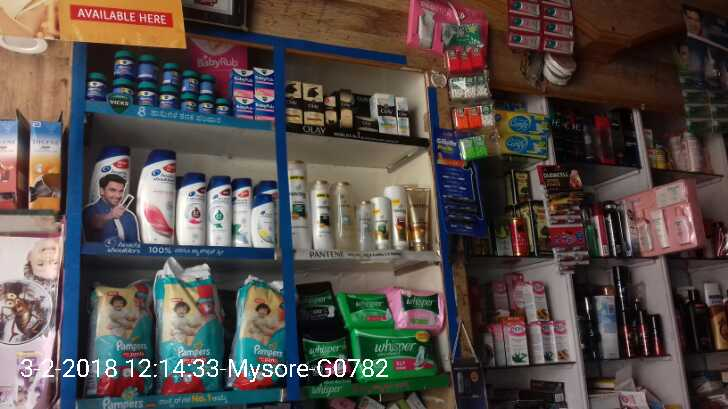beauty: (94, 141, 133, 248), (133, 147, 175, 245), (175, 171, 205, 247), (204, 174, 233, 250), (288, 161, 311, 252), (307, 176, 331, 254), (248, 192, 276, 250), (407, 184, 428, 252), (231, 176, 251, 247), (386, 181, 406, 251), (334, 184, 354, 252), (368, 191, 388, 252), (371, 95, 396, 135), (304, 84, 327, 125), (336, 89, 354, 128), (358, 197, 370, 250), (286, 81, 300, 123), (395, 98, 409, 136)
pharmacy: (155, 270, 221, 390), (90, 282, 153, 391), (230, 274, 285, 385), (351, 326, 439, 379), (399, 285, 446, 331), (342, 290, 390, 328), (307, 339, 347, 376), (108, 46, 135, 75), (108, 76, 134, 103), (254, 66, 275, 96), (230, 70, 254, 96), (157, 58, 179, 86), (85, 68, 104, 99), (232, 94, 255, 119), (154, 84, 175, 111), (136, 78, 155, 105), (178, 66, 194, 95), (254, 94, 273, 118), (137, 50, 153, 76), (175, 93, 196, 112), (196, 94, 212, 113), (215, 98, 230, 118), (199, 72, 212, 93)
